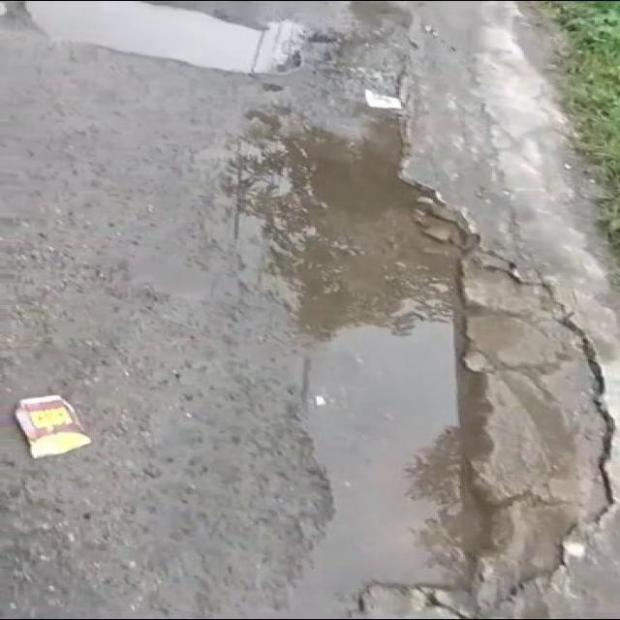lubang: (271, 112, 605, 616), (24, 0, 305, 72)
